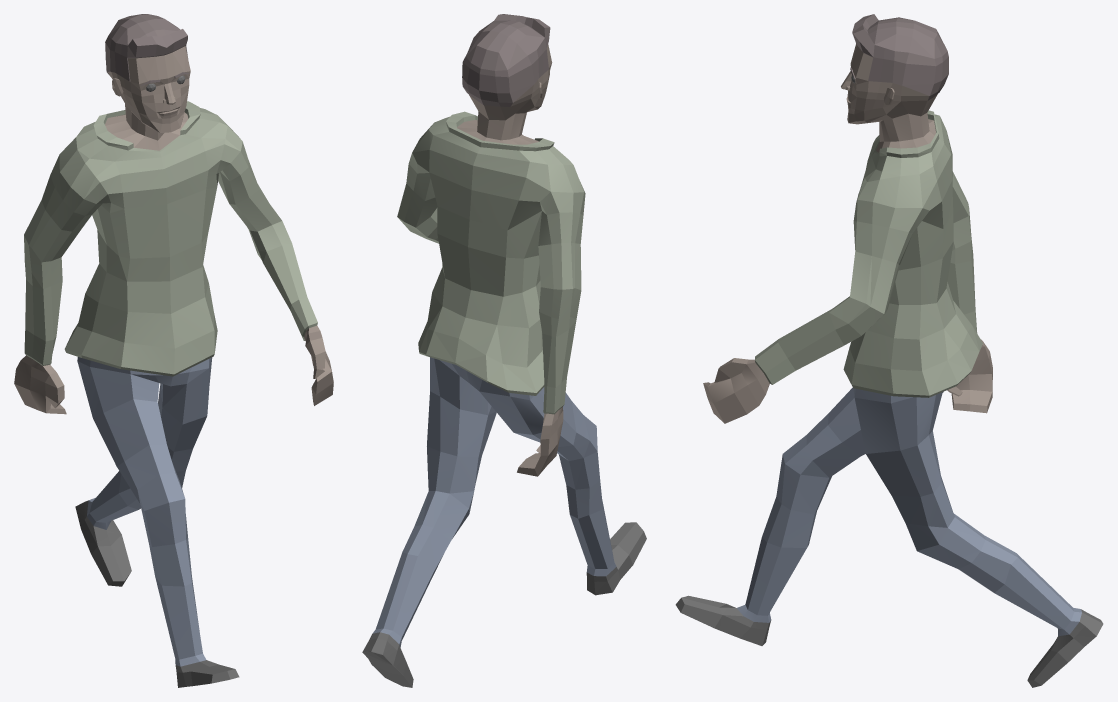
Rendered from walk-9.glb.
3 renders of one model, left to right at view 1: azimuth 30°, elevation 25°; view 2: azimuth 150°, elevation 25°; view 3: azimuth 270°, elevation 25°, orthographic. The views are drawn at different scales.
Visible parts, largest first — view 1: BaseHuman_baked; view 2: BaseHuman_baked; view 3: BaseHuman_baked.
Boxes of the visible parts, box(x1,y1,x2,y2) form: BaseHuman_baked: box(14, 14, 333, 687); BaseHuman_baked: box(362, 14, 646, 687); BaseHuman_baked: box(675, 14, 1103, 687).
Bounding box in the file's own units: 1.61 × 4.6 × 2.77.
